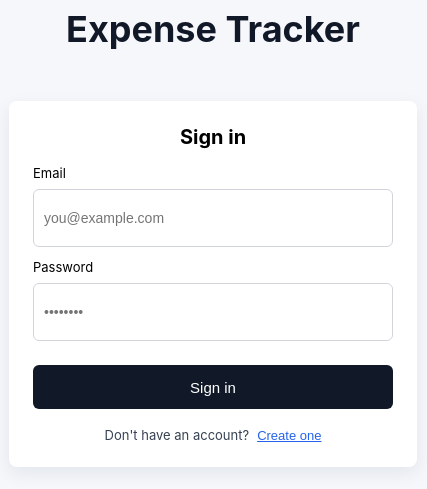
Login Component › Successful Login › should show loading state while signing in
In the field with placeholder "you@example.com": (213, 218) [33,189,393,247], type "john@example.com"
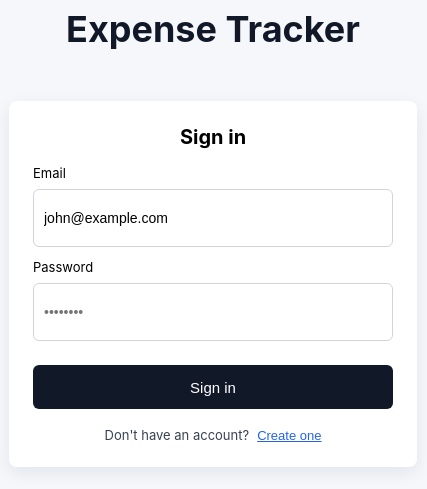
In the password field with placeholder "••••••••": (213, 312) [33,283,393,341], type "password123"
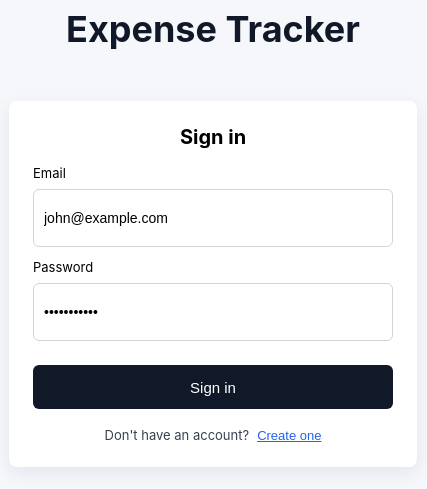
Click the button "Sign in": (213, 387) [33,365,393,409]
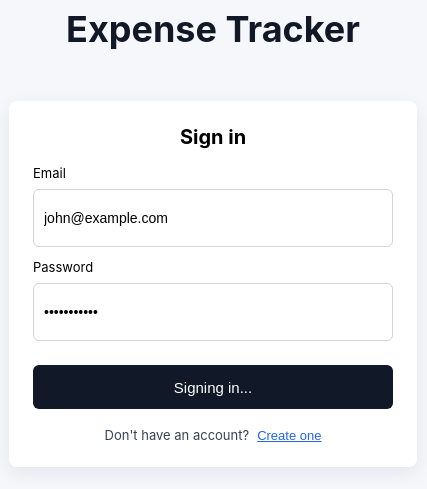
Check: the button "Signing in..." is disabled, box [33,365,393,409]
